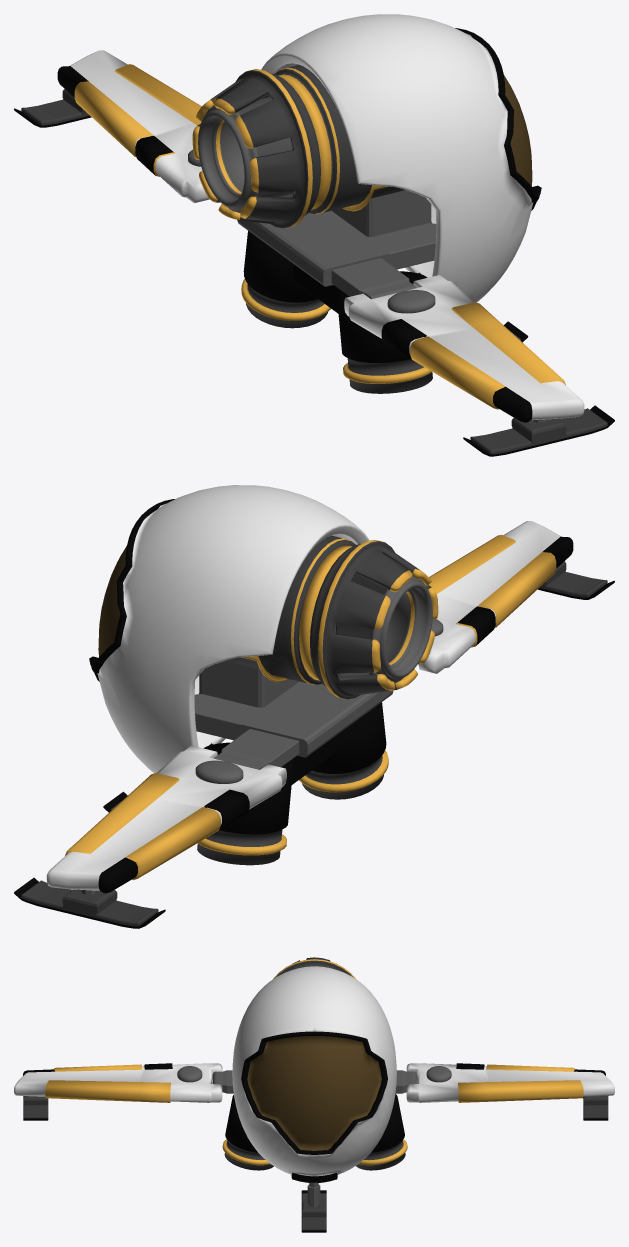
The model's file is RoundRobinSpaceShip.fbx.
The picture shows the model from 3 angles, top to bottom: view 1: azimuth 30°, elevation 25°; view 2: azimuth 150°, elevation 25°; view 3: azimuth 270°, elevation 25°; orthographic projection. The views are drawn at different scales.
Parts seen in each view (by area): view 1: ShipHead, BottomThruster, RightWing, MainRearThruster, LeftWing, RearThrusterCenter; view 2: ShipHead, BottomThruster, LeftWing, MainRearThruster, RightWing, RearThrusterCenter; view 3: ShipHead, LeftWing, RightWing, BottomThruster, CenterStandExtensionRod, MainRearThruster.
Boxes of the visible parts, x1,y1,x2,y2 form: ShipHead: (261,14,541,302); BottomThruster: (237,190,436,393); RightWing: (344,275,614,456); MainRearThruster: (192,65,405,228); LeftWing: (14,50,209,203); RearThrusterCenter: (198,97,293,211); ShipHead: (89,485,369,773); BottomThruster: (194,661,393,865); LeftWing: (14,745,286,928); MainRearThruster: (225,535,438,699); RightWing: (418,521,614,673); RearThrusterCenter: (336,574,432,681); ShipHead: (232,966,396,1182); LeftWing: (406,1063,614,1120); RightWing: (14,1063,222,1120); BottomThruster: (212,1070,416,1170); CenterStandExtensionRod: (301,1182,326,1232); MainRearThruster: (273,957,356,979).
Bounding box in the file's own units: 342 × 380 × 964.
